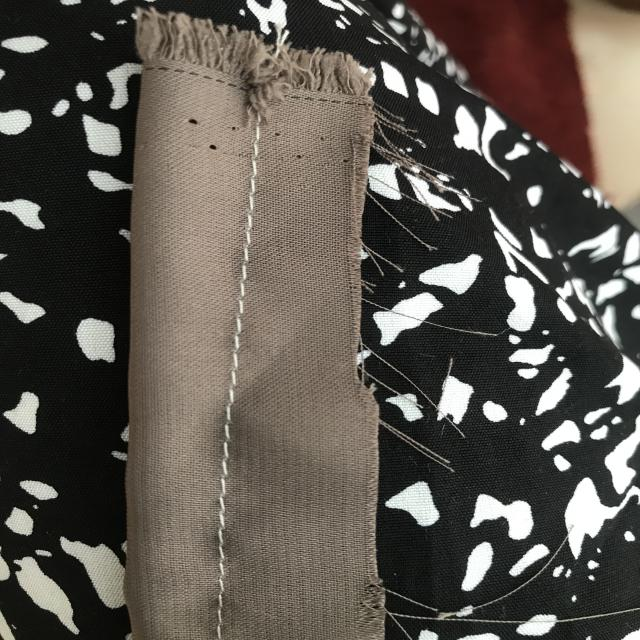good: (206, 454, 262, 618), (222, 285, 256, 425), (231, 166, 270, 260)
